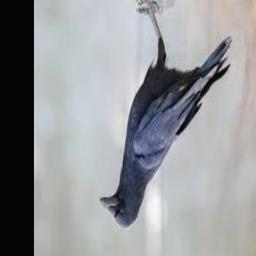Crow: (100, 0, 233, 228)
